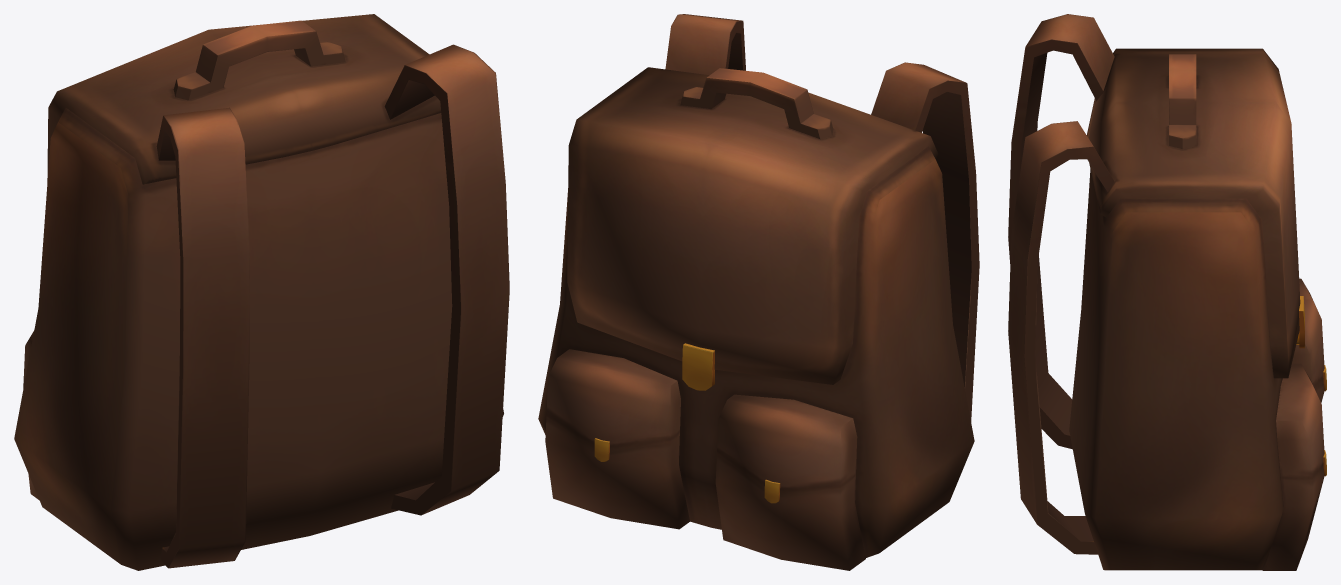
File: ENV2010005.fbx
The picture shows the model from 3 angles, left to right: view 1: azimuth 30°, elevation 25°; view 2: azimuth 150°, elevation 25°; view 3: azimuth 270°, elevation 25°; orthographic projection. The views are drawn at different scales.
Parts seen in each view (by area): view 1: smENV2010005; view 2: smENV2010005; view 3: smENV2010005.
Part boxes in pixels (x1,y1,x2,y2): smENV2010005: [14, 14, 509, 570]; smENV2010005: [538, 14, 979, 570]; smENV2010005: [1008, 14, 1326, 570].
Size of the model in its own units: 21.76 by 24.74 by 16.75.
Materials: 1 (1 with a texture image).
